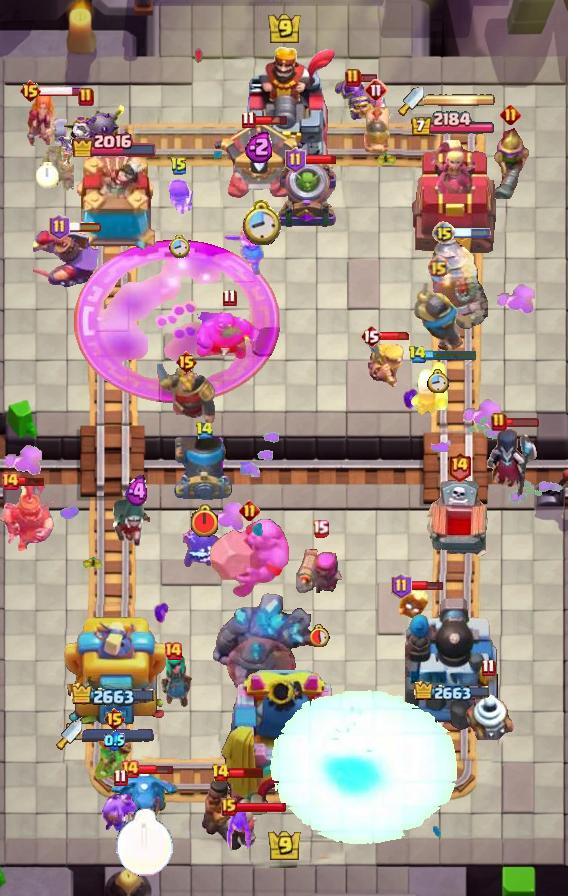bandit: (111, 495, 163, 549)
bar: (425, 349, 478, 361), (235, 801, 287, 813), (39, 86, 93, 97), (228, 766, 265, 779), (67, 221, 103, 233), (409, 580, 444, 592), (254, 114, 289, 126), (138, 764, 174, 775), (10, 476, 46, 487), (504, 417, 540, 428), (453, 228, 491, 238), (303, 154, 337, 165), (380, 331, 412, 341), (359, 73, 378, 83)
bar-level: (447, 451, 472, 482), (432, 221, 456, 245), (364, 78, 388, 102), (103, 707, 126, 731), (175, 350, 198, 374), (19, 79, 42, 103), (391, 573, 412, 599), (49, 214, 70, 240), (285, 147, 306, 173), (427, 255, 450, 278), (360, 324, 382, 348), (239, 500, 260, 521), (500, 104, 521, 125), (120, 759, 140, 779), (163, 641, 183, 661), (0, 471, 20, 491), (211, 763, 230, 783), (195, 421, 214, 440), (408, 345, 427, 364), (170, 156, 188, 176), (312, 519, 329, 538), (491, 412, 507, 432), (78, 87, 94, 107), (345, 68, 361, 88), (221, 798, 237, 816), (113, 768, 128, 787), (481, 658, 496, 677), (222, 288, 237, 307), (241, 110, 256, 129)
barbarian-evolution: (365, 334, 406, 388)
bat-evolution: (224, 811, 254, 855)
bomber-evolution: (44, 103, 128, 173)
cannoneer-tower: (405, 595, 501, 731)
clock: (115, 808, 174, 877), (240, 198, 281, 245), (189, 504, 220, 539), (36, 162, 59, 189), (427, 369, 449, 393), (169, 235, 190, 259), (310, 624, 330, 647)
dagger-duchess-tower: (62, 611, 166, 731), (409, 138, 497, 256)
dagger-duchess-tower-bar: (82, 728, 154, 742), (424, 93, 496, 107)
dirt: (32, 146, 74, 191)
electro-dragon: (108, 765, 180, 827)
electro-spirit: (183, 524, 225, 570)
elixir: (245, 130, 275, 163), (125, 475, 150, 508), (104, 730, 125, 751)
elixir-golem-mid: (197, 311, 261, 361)
fire-spirit: (398, 589, 430, 621)
firecracker: (296, 543, 344, 599), (408, 359, 450, 417)
king-tower: (219, 670, 349, 826), (230, 45, 338, 181)
knight: (157, 364, 216, 425), (413, 283, 464, 353)
knight-evolution: (334, 75, 396, 122)
minion: (101, 790, 139, 832)
mortar: (174, 436, 234, 500)
mortar-evolution: (275, 160, 339, 230)
musketeer: (489, 125, 531, 199)
night-witch: (484, 425, 540, 503)
queen-tower: (68, 156, 160, 256)
ram-rider: (200, 776, 262, 852)
rascal-girl: (153, 654, 193, 708)
royal-hog: (360, 102, 392, 160)
royal-recruit: (0, 479, 55, 551)
skeleton-evolution: (164, 177, 195, 217)
spear-goblin: (95, 729, 133, 779)
tower-bar: (71, 130, 158, 157), (410, 111, 496, 138), (71, 683, 157, 709), (414, 681, 492, 704)
valkyrie: (23, 87, 71, 149), (222, 223, 270, 277)
zappy: (461, 680, 515, 740)
